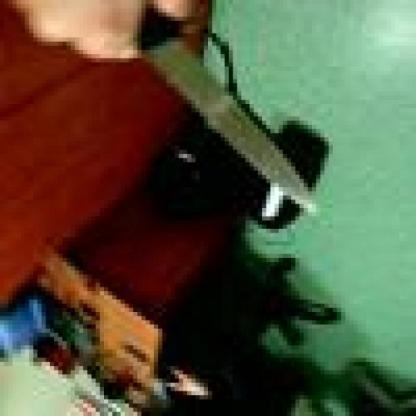Knife: (83, 0, 350, 225)
